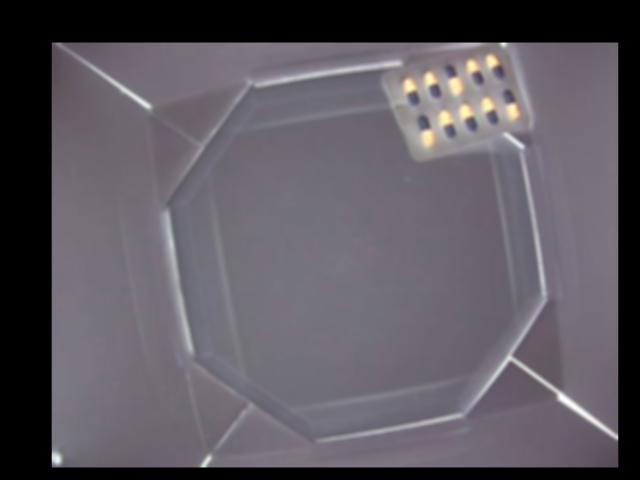Medicine: (381, 43, 533, 157)
